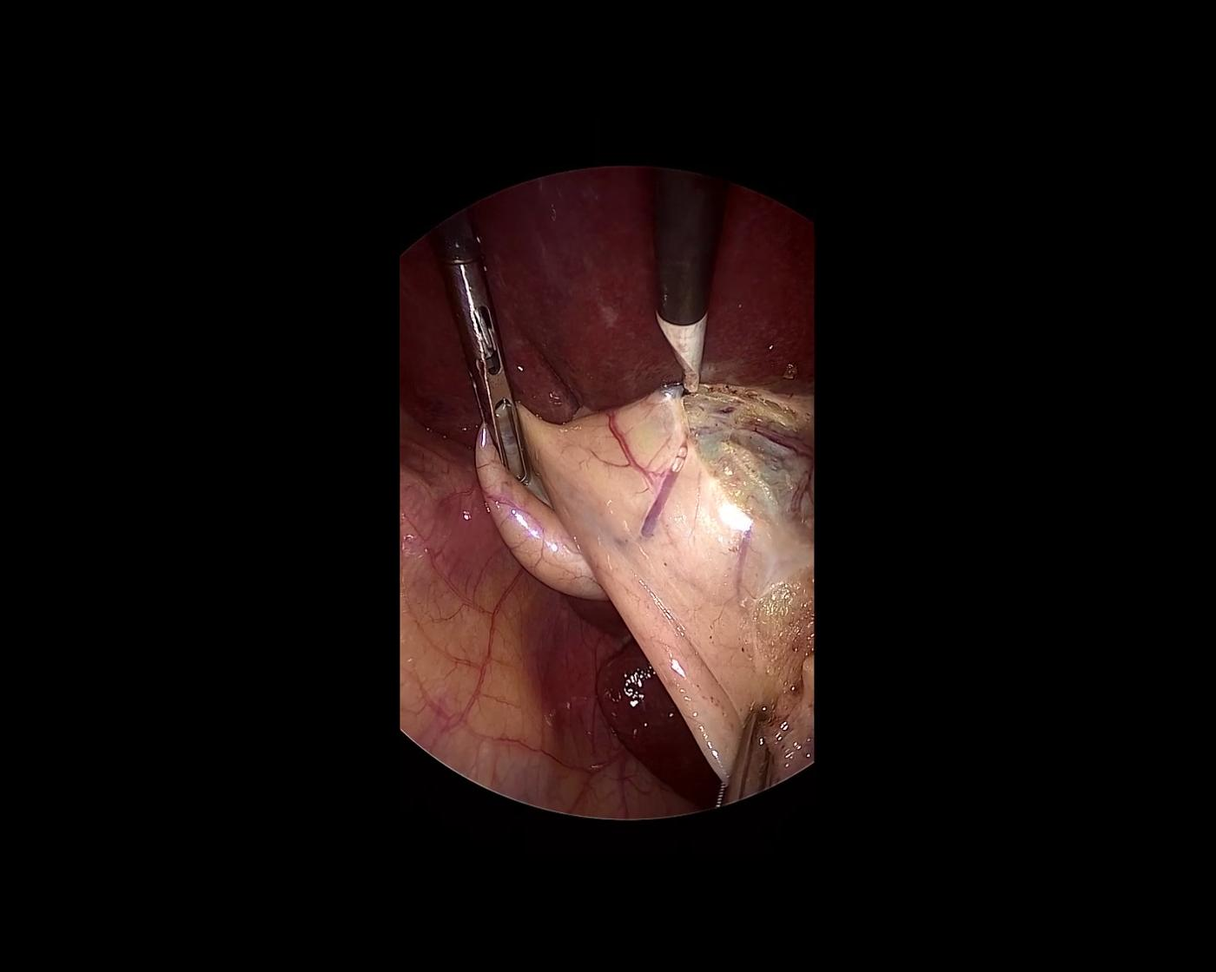Cautery: (633, 169, 723, 395)
Forceps: (425, 208, 531, 492), (720, 701, 785, 811)
Gallbladder: (475, 383, 815, 784)
Liver: (372, 137, 840, 457), (544, 577, 732, 831)
